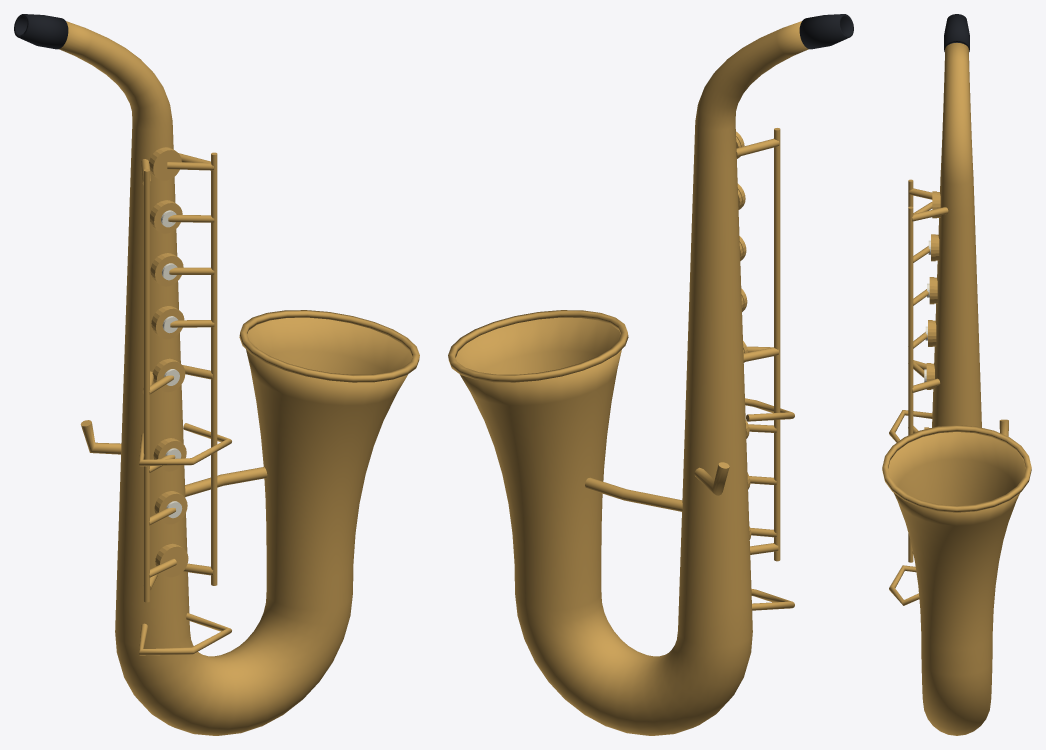
The model's file is A-NEW-20261026-ALTO-SAXOPHONE-001_LOD1_R2.glb.
3 renders of one model, left to right at view 1: azimuth 30°, elevation 25°; view 2: azimuth 150°, elevation 25°; view 3: azimuth 270°, elevation 25°, orthographic. The views are drawn at different scales.
Parts seen in each view (by area): view 1: continuous neck body bow and open bell, rolled bell rim, left key rod, right key rod, open black mouthpiece, lower key guard 0, lower key guard 1, bell body brace, closed cup 07, closed cup 00; view 2: continuous neck body bow and open bell, rolled bell rim, left key rod, open black mouthpiece, bell body brace; view 3: continuous neck body bow and open bell, rolled bell rim, right key rod, open black mouthpiece, lower key guard 0, lower key guard 1, right rod pillar 0.525.
Part boxes in pixels (box(x1,y1,x2,y2)): continuous neck body bow and open bell: box(59, 21, 411, 735); rolled bell rim: box(239, 310, 419, 382); left key rod: box(143, 169, 149, 602); right key rod: box(211, 152, 217, 585); open black mouthpiece: box(14, 14, 68, 49); lower key guard 0: box(139, 613, 231, 655); lower key guard 1: box(139, 423, 231, 466); bell body brace: box(185, 467, 267, 496); closed cup 07: box(150, 148, 181, 180); closed cup 00: box(157, 544, 188, 577); continuous neck body bow and open bell: box(456, 21, 808, 735); rolled bell rim: box(448, 310, 628, 382); left key rod: box(774, 128, 780, 561); open black mouthpiece: box(799, 14, 853, 49); bell body brace: box(585, 477, 682, 511); continuous neck body bow and open bell: box(888, 43, 1025, 735); rolled bell rim: box(882, 425, 1031, 512); right key rod: box(908, 206, 913, 562); open black mouthpiece: box(944, 14, 969, 51); lower key guard 0: box(889, 565, 919, 605); lower key guard 1: box(889, 410, 932, 442); right rod pillar 0.525: box(912, 207, 948, 221).
Bounding box in the file's own units: 0.3131 × 0.5867 × 0.126.
